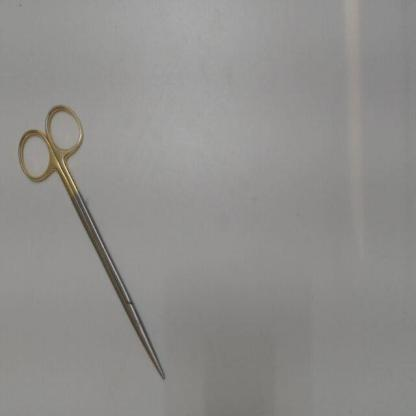7 Metzenbaum Scissors: (14, 96, 171, 388)
